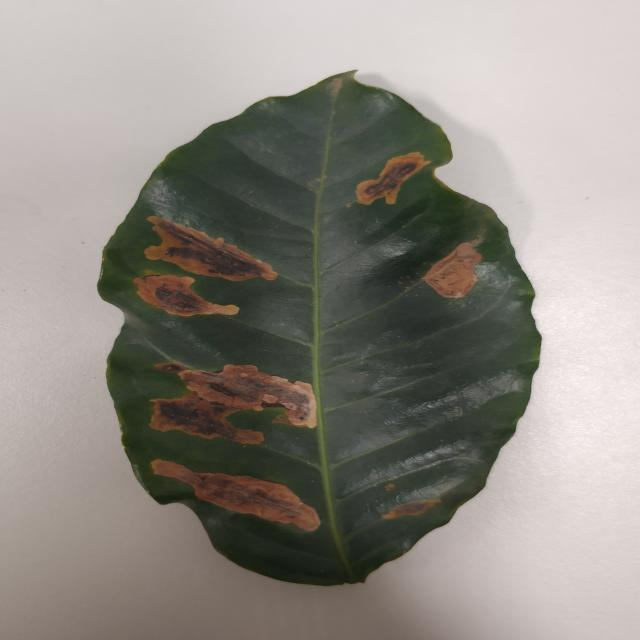Plaga-Minador: (95, 71, 542, 590)
